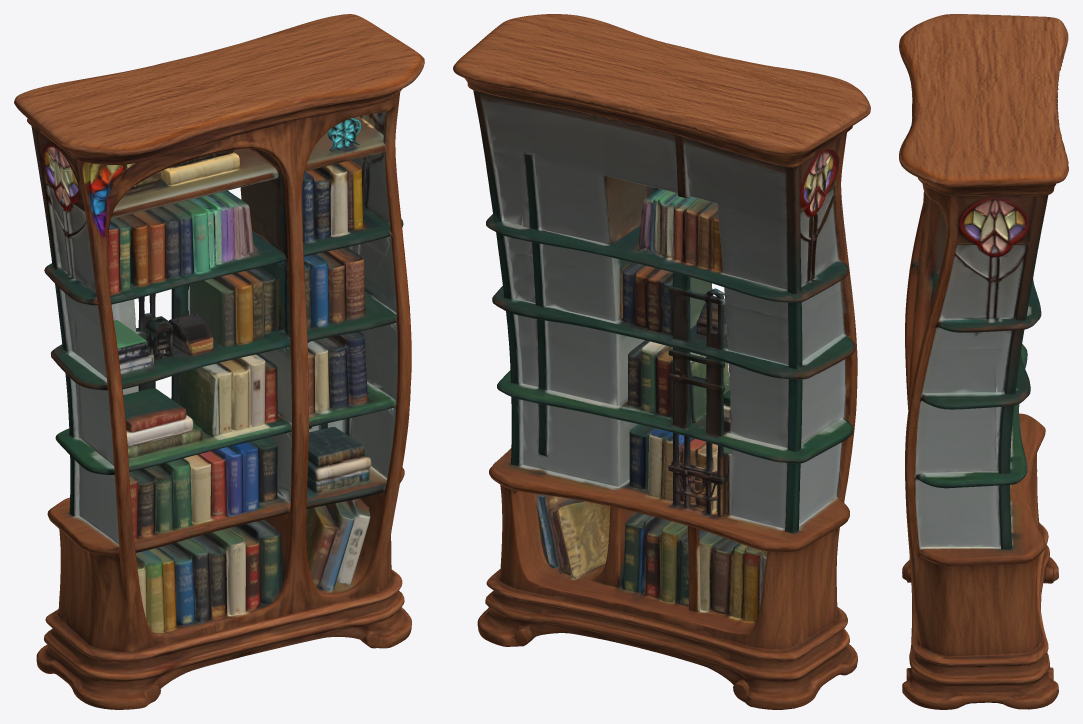
Rendered from art-nouveau-bookshelf-holo.glb.
The picture shows the model from 3 angles, left to right: view 1: azimuth 30°, elevation 25°; view 2: azimuth 150°, elevation 25°; view 3: azimuth 270°, elevation 25°; orthographic projection. The views are drawn at different scales.
Visible parts, largest first — view 1: tripo_node_66ebeca6-f9b3-43e3-a915-d06fb7fafd2b; view 2: tripo_node_66ebeca6-f9b3-43e3-a915-d06fb7fafd2b; view 3: tripo_node_66ebeca6-f9b3-43e3-a915-d06fb7fafd2b.
Boxes of the visible parts, <box> form: tripo_node_66ebeca6-f9b3-43e3-a915-d06fb7fafd2b: <box>14,14,424,709</box>; tripo_node_66ebeca6-f9b3-43e3-a915-d06fb7fafd2b: <box>453,14,870,709</box>; tripo_node_66ebeca6-f9b3-43e3-a915-d06fb7fafd2b: <box>899,14,1068,709</box>.
Bounding box in the file's own units: 0.6558 × 0.9804 × 0.2789.
Materials: 1 (1 with a texture image).
